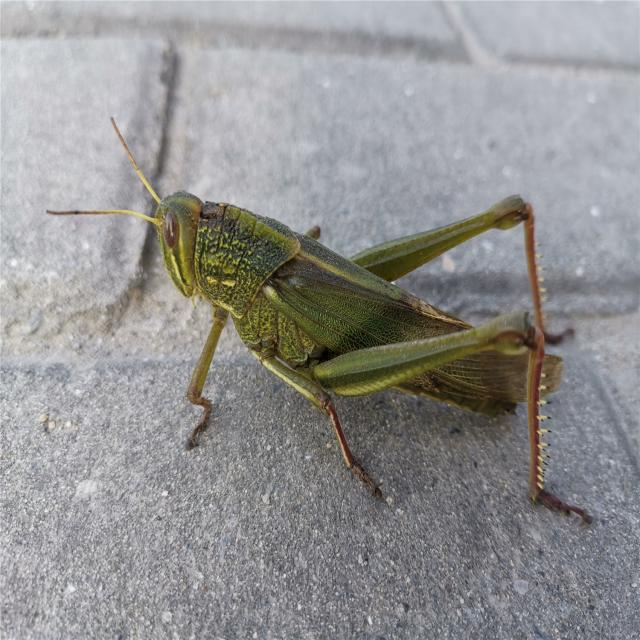ZhaMeng: (88, 99, 573, 502)
